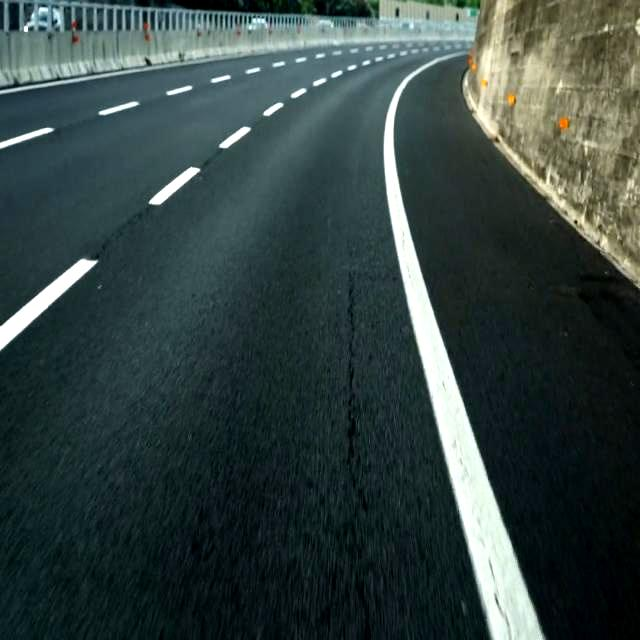lane: (383, 51, 543, 639), (1, 259, 95, 350), (149, 167, 199, 204), (1, 128, 52, 148), (220, 127, 251, 147), (99, 102, 139, 115), (263, 103, 283, 115)
road: (2, 52, 490, 639), (397, 58, 639, 638)
